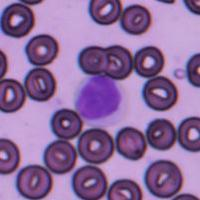L: (74, 74, 129, 127)
